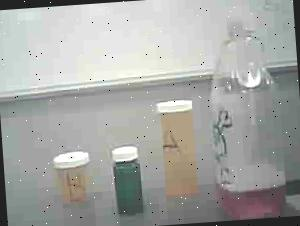Bottle A: (144, 90, 202, 204)
Bottle B: (47, 144, 102, 212)
Bottle C: (106, 140, 149, 221)
hazard: (196, 0, 300, 222)
